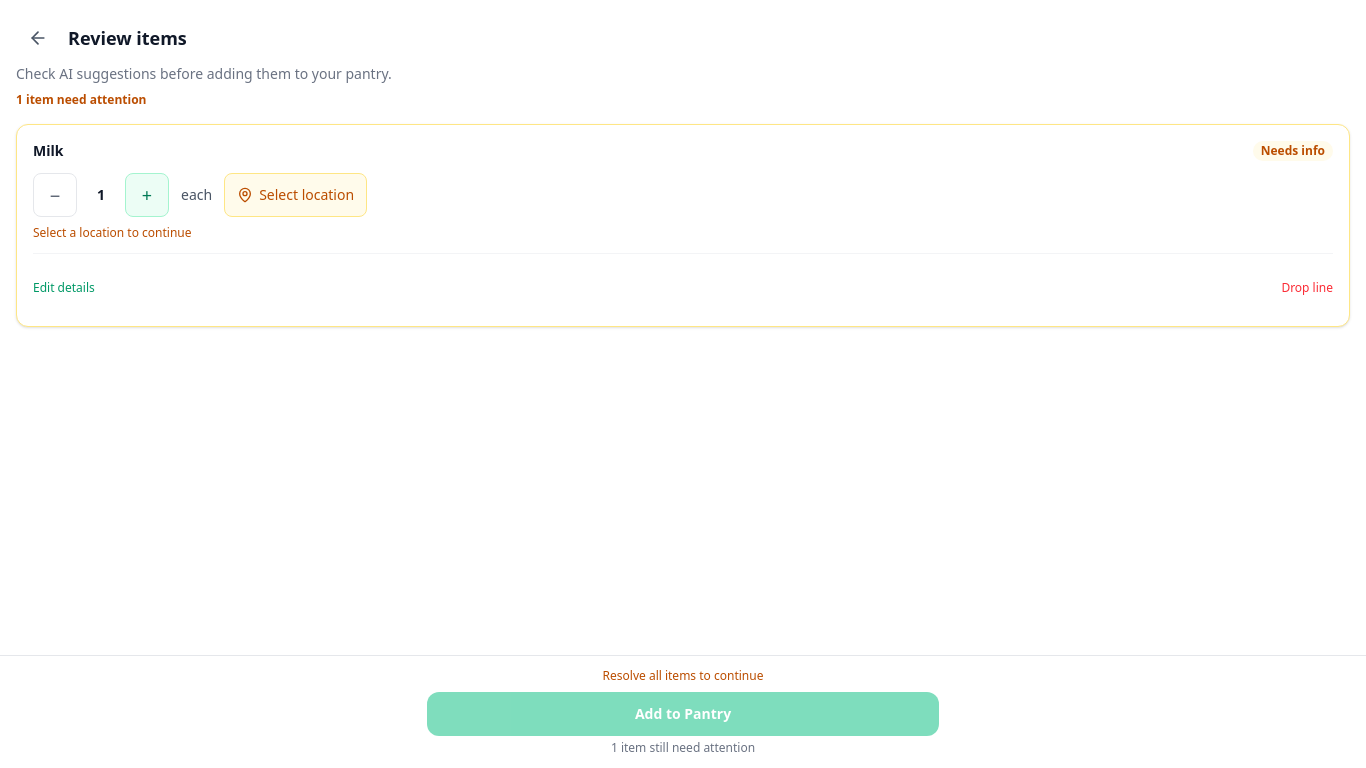
Test: BatchReviewScreen › inline location editing › selects location via inline picker
Click the dropdown labelled "Select location": (296,195) [224,173,367,217]
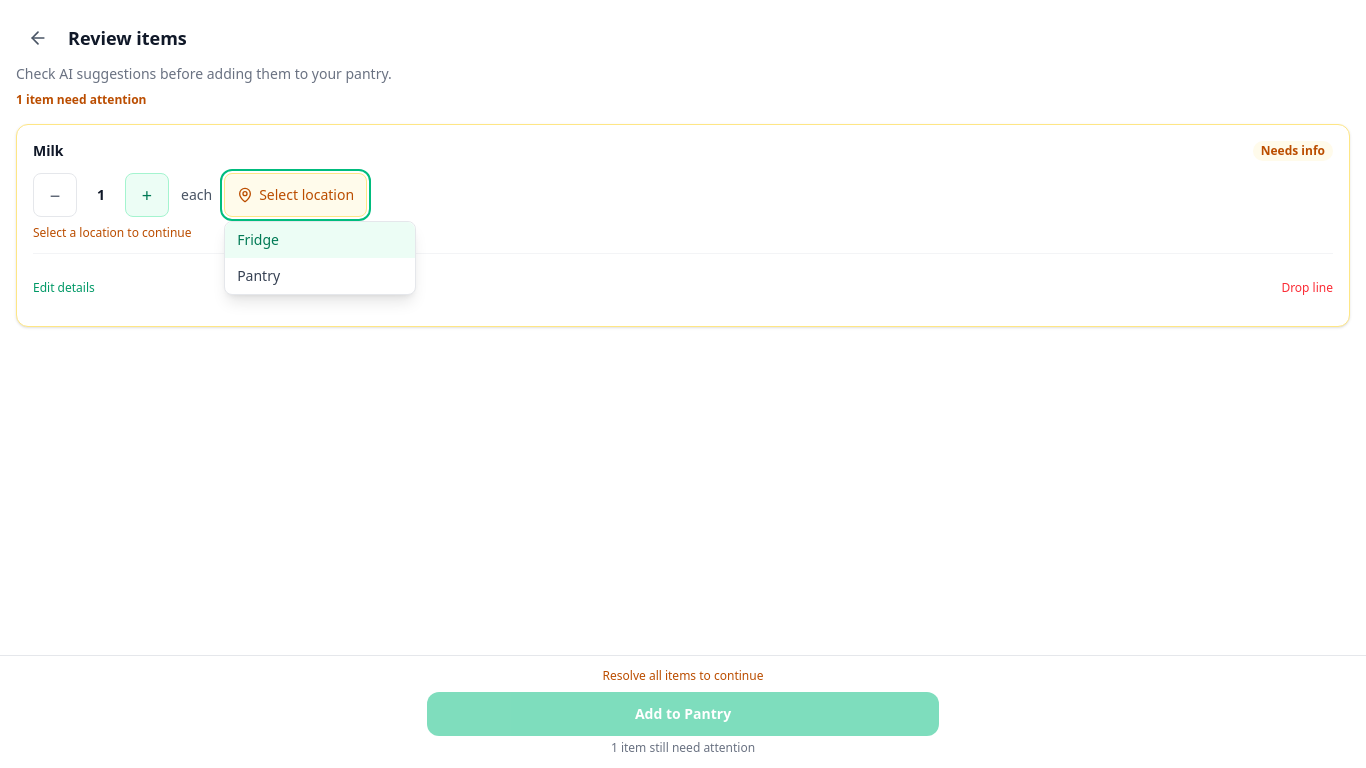
Click the option "Fridge": (320,240) [225,222,415,258]
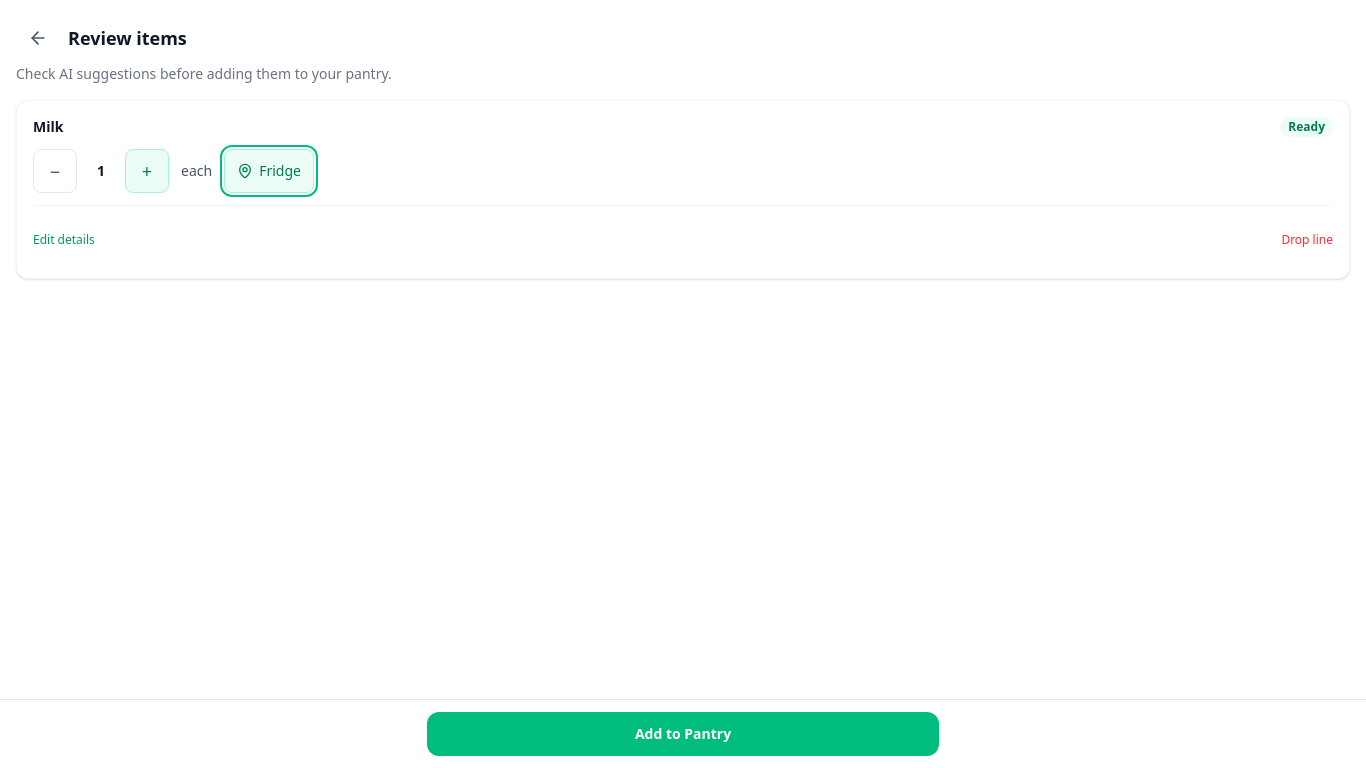
Now the text "Fridge" is shown, box [259,161,301,181]
